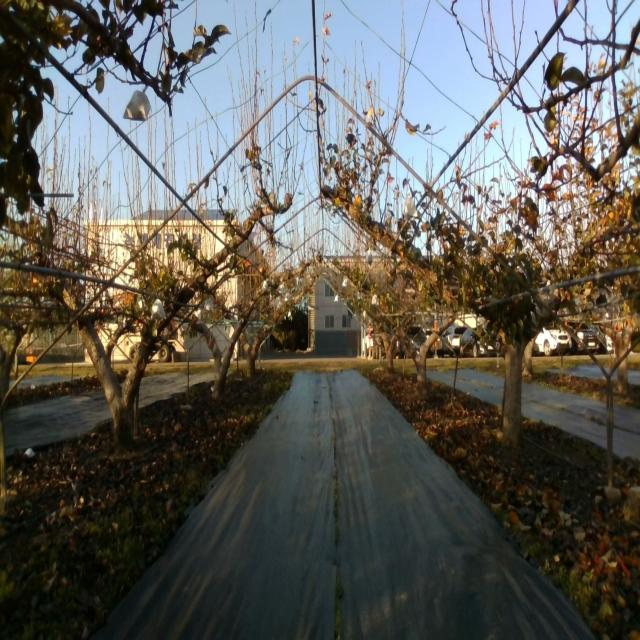pearbags: (123, 90, 151, 121), (150, 297, 166, 321), (404, 194, 418, 220)
